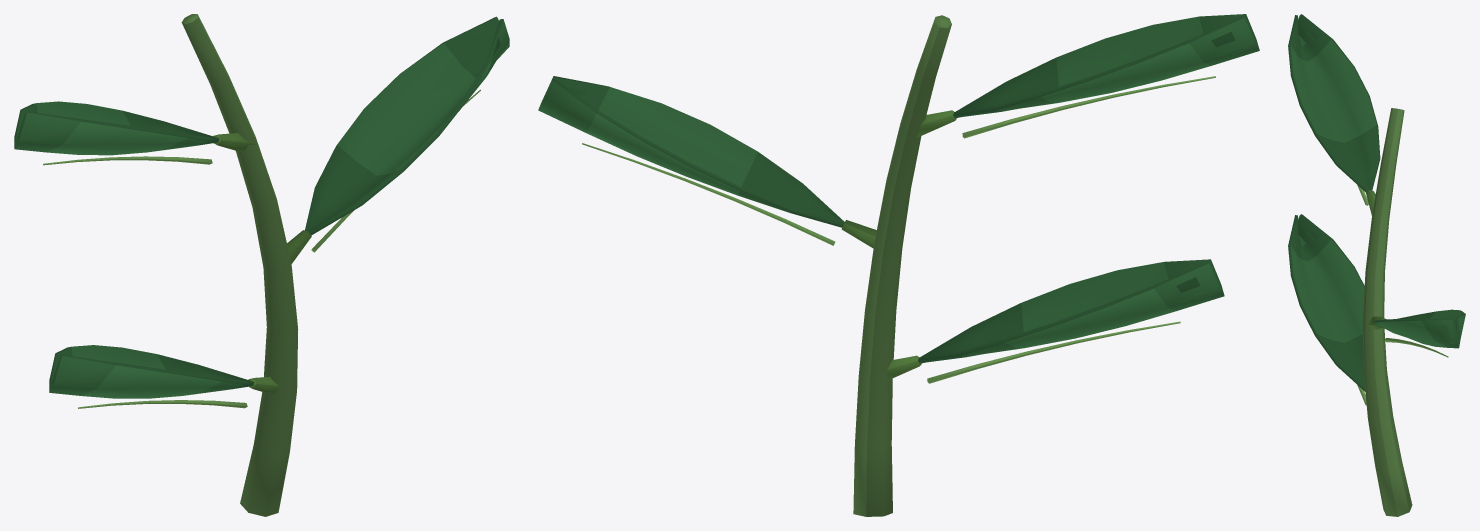
The model's file is garden-tulip-leaves-stem-0.glb.
3 views of the same model, side by side, from view 1: azimuth 30°, elevation 25°; view 2: azimuth 150°, elevation 25°; view 3: azimuth 270°, elevation 25° (orthographic). The views are drawn at different scales.
Visible parts, largest first — view 1: tulip-leaves-stem-0; view 2: tulip-leaves-stem-0; view 3: tulip-leaves-stem-0.
Boxes of the visible parts, <box> form: tulip-leaves-stem-0: <box>14,14,509,516</box>; tulip-leaves-stem-0: <box>538,14,1259,516</box>; tulip-leaves-stem-0: <box>1288,14,1465,516</box>.
Size of the model in its own units: 0.2404 by 0.1978 by 0.0822.
